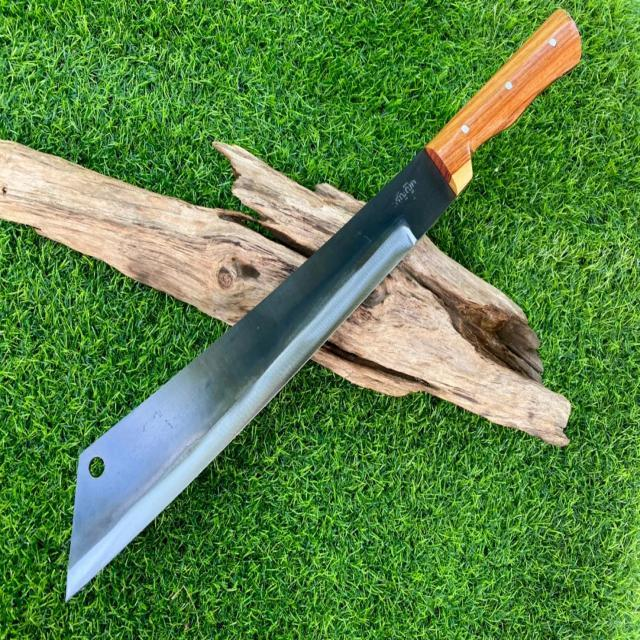eto: (61, 4, 600, 606)
